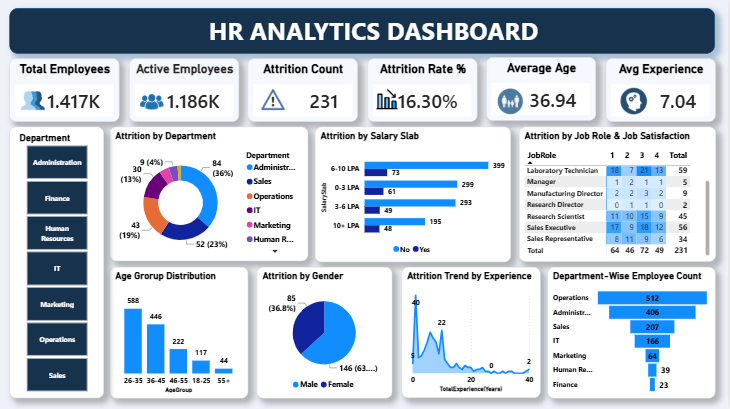

Layout of this report page (visuals, bound fields, positions):
{"tool":"powerbi","page":{"name":"Page 1","canvas":[1280,720],"ordinal":0},"visuals":[{"type":"textbox","box":[20,16,1238,80],"z":0},{"type":"cardVisual","title":"Total Employees","fields":{"Data":["CountNonNull(HR_Analytics-4.EmpID)"]},"box":[20,103.3,193.4,111.7],"z":1000},{"type":"cardVisual","title":"Active Employees","fields":{"Data":["CountNonNull(HR_Analytics-4.EmployeeCount)"]},"box":[229.2,103.3,193.4,111.7],"z":2000},{"type":"cardVisual","title":"Avg Experience","fields":{"Data":["Avg(HR_Analytics-4.YearsatCompany)"]},"box":[1065,103.3,193.4,111.7],"z":3000},{"type":"cardVisual","title":"Average Age","fields":{"Data":["Avg(HR_Analytics-4.Age)"]},"box":[855,102.5,193.4,111.7],"z":4000},{"type":"cardVisual","title":"Attrition Rate %","fields":{"Data":["HR_Analytics-4.Attrition Rate %"]},"box":[648.3,103.3,193.4,111.7],"z":5000},{"type":"cardVisual","title":"Attrition Count","fields":{"Data":["Sum(HR_Analytics-4.AttritionCount)"]},"box":[438.3,103.3,193.4,111.7],"z":6000},{"type":"image","box":[40.8,130.8,42,96],"z":7000},{"type":"image","box":[235.8,135,67.5,88.8],"z":8000},{"type":"image","box":[870,151.3,56.9,55.4],"z":9000},{"type":"image","box":[1076,148,78.6,61.4],"z":10000},{"type":"image","box":[454,138,57.1,77.1],"z":11000},{"type":"image","box":[663.1,153.8,36.7,41.7],"z":12000},{"type":"donutChart","title":"Attrition by Department","fields":{"Category":["HR_Analytics-4.Department"],"Y":["Sum(HR_Analytics-4.AttritionCount)"]},"box":[195.5,224.5,348.2,236.4],"z":13000},{"type":"clusteredBarChart","title":"Attrition by Salary Slab","fields":{"Category":["HR_Analytics-4.SalarySlab"],"Y":["CountNonNull(HR_Analytics-4.EmpID)"],"Series":["HR_Analytics-4.Attrition"]},"box":[555,223.6,343.6,237.9],"z":14000},{"type":"pivotTable","title":"Attrition by Job Role & Job Satisfaction","fields":{"Rows":["HR_Analytics-4.JobRole"],"Values":["Sum(HR_Analytics-4.AttritionCount)"],"Columns":["HR_Analytics-4.JobSatisfaction"]},"box":[913.6,223.6,345.5,237.3],"z":15000},{"type":"columnChart","title":"Age Grorup Distribution","fields":{"Category":["HR_Analytics-4.AgeGroup"],"Y":["Sum(HR_Analytics-4.EmployeeCount)"]},"box":[195.4,469.4,242.6,230.3],"z":16000},{"type":"pieChart","title":"Attrition by Gender","fields":{"Category":["HR_Analytics-4.Gender"],"Y":["Sum(HR_Analytics-4.AttritionCount)"]},"box":[453.7,469.4,237.3,230.3],"z":17000},{"type":"areaChart","title":"Attrition Trend by Experience","fields":{"Category":["HR_Analytics-4.TotalExperience(Years)"],"Y2":["Sum(HR_Analytics-4.AttritionCount)"]},"box":[707.5,470,243.8,230],"z":18000},{"type":"funnel","title":"Department-Wise Employee Count","fields":{"Category":["HR_Analytics-4.Department"],"Y":["CountNonNull(HR_Analytics-4.EmpID)"]},"box":[963.2,469.4,294.9,230.3],"z":19000},{"type":"slicer","fields":{"Values":["HR_Analytics-4.Department"]},"box":[19.2,223.4,165.8,476.4],"z":20000}]}

Visuals, with their boxes in screenshot pixels (x1, y1, x2, y2), scaled from the page's 1280x720 canvas onto the 730x409 screenshot:
textbox: (x1=11, y1=9, x2=717, y2=55)
"Total Employees" cardVisual: (x1=11, y1=59, x2=122, y2=122)
"Active Employees" cardVisual: (x1=131, y1=59, x2=241, y2=122)
"Avg Experience" cardVisual: (x1=607, y1=59, x2=718, y2=122)
"Average Age" cardVisual: (x1=488, y1=58, x2=598, y2=122)
"Attrition Rate %" cardVisual: (x1=370, y1=59, x2=480, y2=122)
"Attrition Count" cardVisual: (x1=250, y1=59, x2=360, y2=122)
image: (x1=23, y1=74, x2=47, y2=129)
image: (x1=134, y1=77, x2=173, y2=127)
image: (x1=496, y1=86, x2=529, y2=117)
image: (x1=614, y1=84, x2=658, y2=119)
image: (x1=259, y1=78, x2=291, y2=122)
image: (x1=378, y1=87, x2=399, y2=111)
"Attrition by Department" donutChart: (x1=111, y1=128, x2=310, y2=262)
"Attrition by Salary Slab" clusteredBarChart: (x1=317, y1=127, x2=512, y2=262)
"Attrition by Job Role & Job Satisfaction" pivotTable: (x1=521, y1=127, x2=718, y2=262)
"Age Grorup Distribution" columnChart: (x1=111, y1=267, x2=250, y2=397)
"Attrition by Gender" pieChart: (x1=259, y1=267, x2=394, y2=397)
"Attrition Trend by Experience" areaChart: (x1=403, y1=267, x2=543, y2=398)
"Department-Wise Employee Count" funnel: (x1=549, y1=267, x2=718, y2=397)
slicer - HR_Analytics-4.Department: (x1=11, y1=127, x2=106, y2=398)
